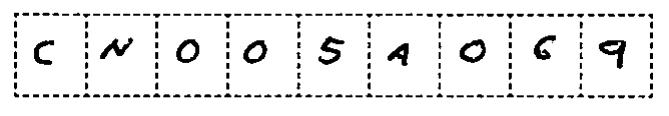0: (171, 34, 206, 68), (238, 34, 272, 68), (454, 33, 490, 64)
5: (310, 31, 350, 71)
6: (526, 29, 562, 63)
9: (595, 35, 631, 69)
A: (380, 37, 418, 69)
C: (27, 34, 61, 73)
N: (98, 33, 136, 67)
